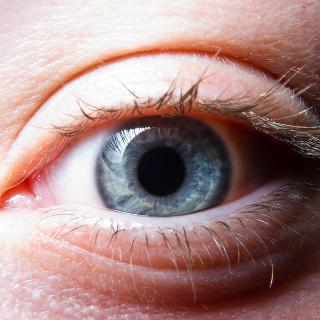iris: (95, 104, 230, 239)
